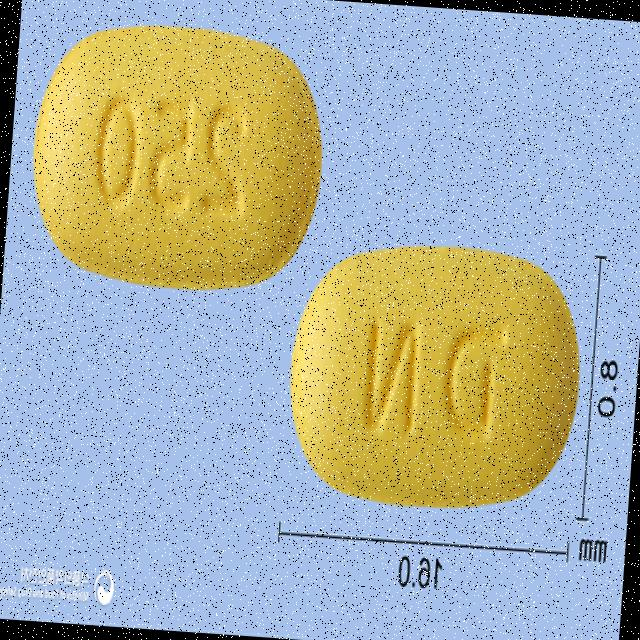Clamycin: (275, 229, 592, 524), (19, 12, 332, 304)
